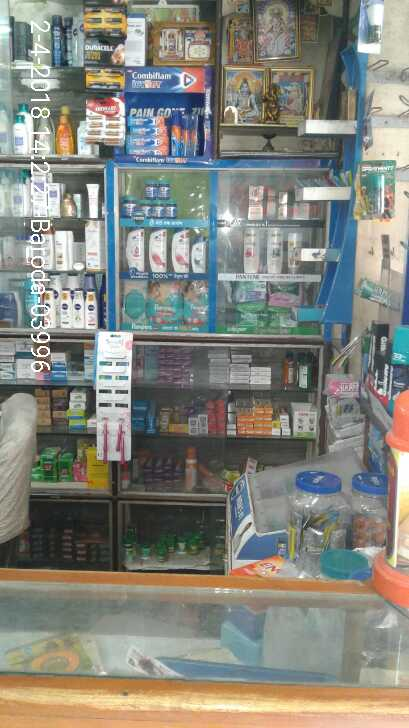vicks: (144, 177, 159, 199), (162, 202, 179, 221), (121, 195, 135, 218), (159, 178, 170, 199), (137, 201, 150, 218), (151, 200, 161, 218)
